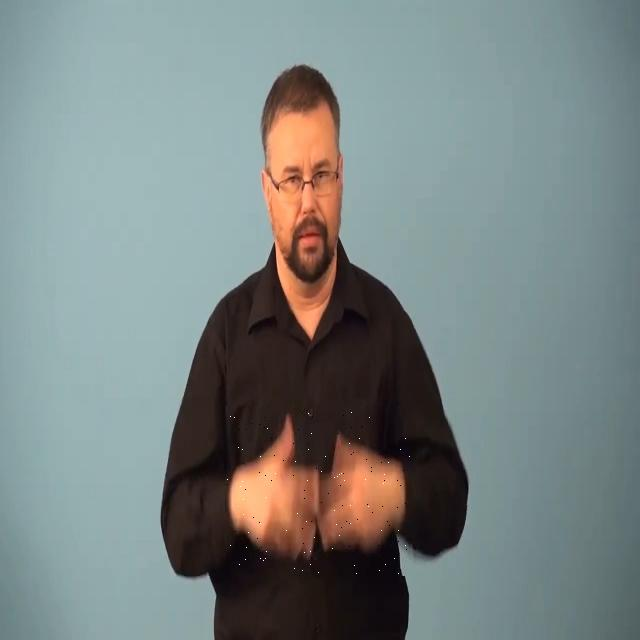juicy: (226, 406, 412, 576)
